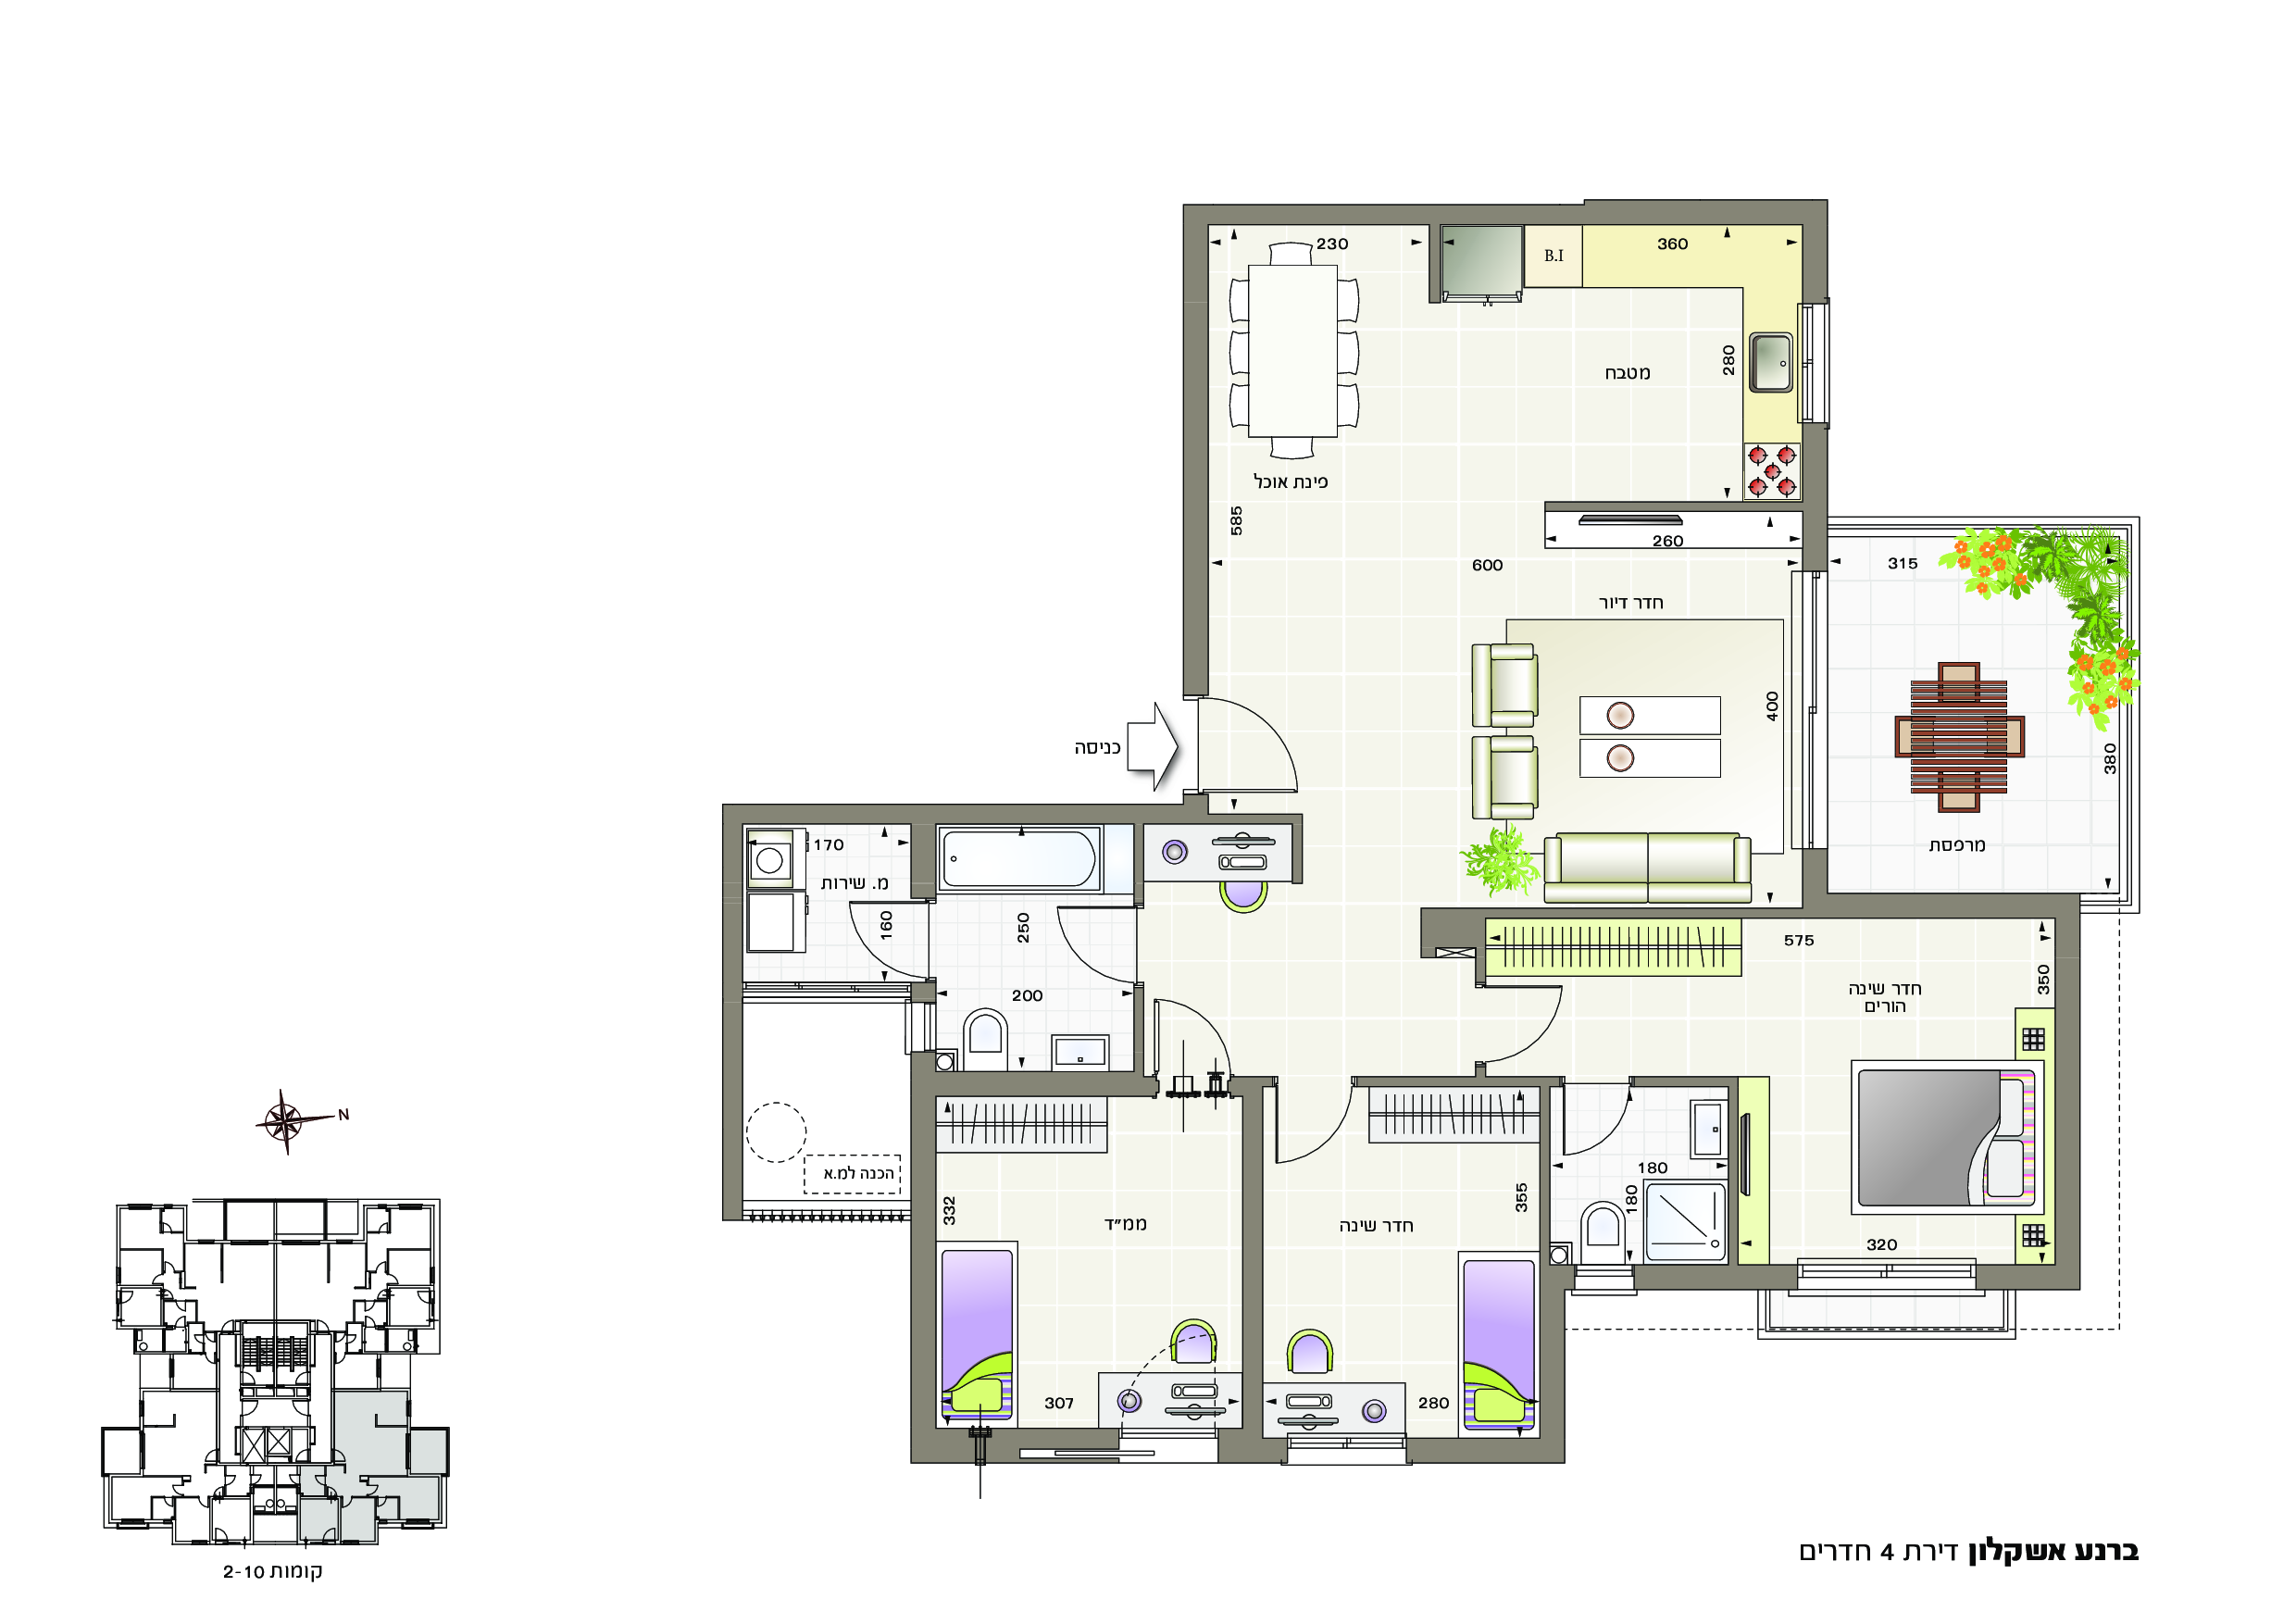door: (1216, 689, 1321, 796), (1152, 982, 1233, 1070), (1270, 1100, 1349, 1188), (1049, 900, 1126, 990), (1495, 979, 1570, 1067), (836, 895, 910, 975), (1558, 1098, 1641, 1162)
md: (603, 76, 2171, 1534)
rd: (72, 1048, 476, 1598)
wall: (1188, 206, 1829, 223), (1184, 207, 1207, 694), (910, 1058, 936, 1457), (1242, 1079, 1263, 1462), (726, 807, 1207, 823), (2059, 896, 2078, 1285), (724, 807, 741, 1209), (1421, 907, 2075, 917), (1586, 200, 1829, 223), (1804, 895, 2057, 916), (912, 1074, 1142, 1095), (1539, 1083, 1549, 1459), (1541, 1269, 1560, 1461), (1804, 427, 1827, 566), (1641, 1267, 1790, 1288), (1409, 1439, 1558, 1461), (956, 816, 1296, 823), (1978, 1267, 2078, 1290), (913, 807, 935, 893), (1729, 1079, 1736, 1287), (1358, 1077, 1555, 1084), (1135, 988, 1144, 1095), (1635, 1077, 1736, 1084)
window: (1780, 569, 1838, 854), (1794, 1251, 1980, 1301), (1790, 301, 1845, 427), (1286, 1427, 1407, 1475), (1570, 1260, 1635, 1299), (905, 1000, 942, 1056)
